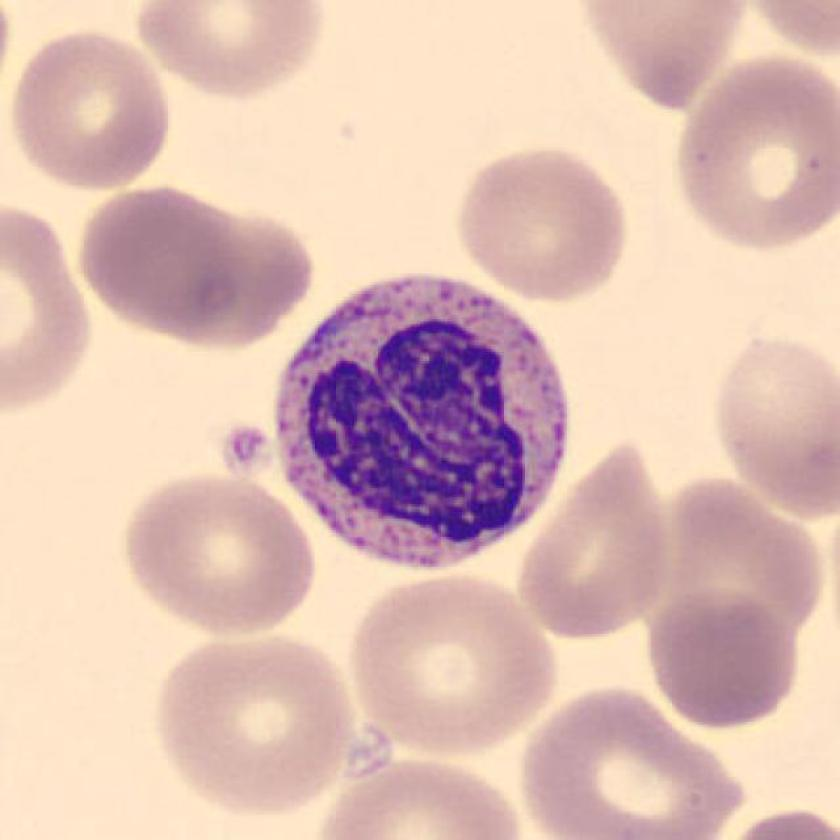neutrophil: (277, 277, 568, 568)
